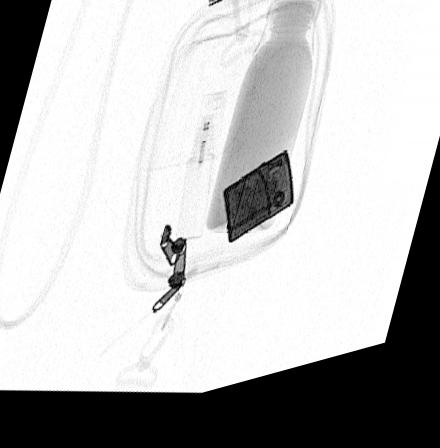Lighter: (221, 166, 292, 257)
